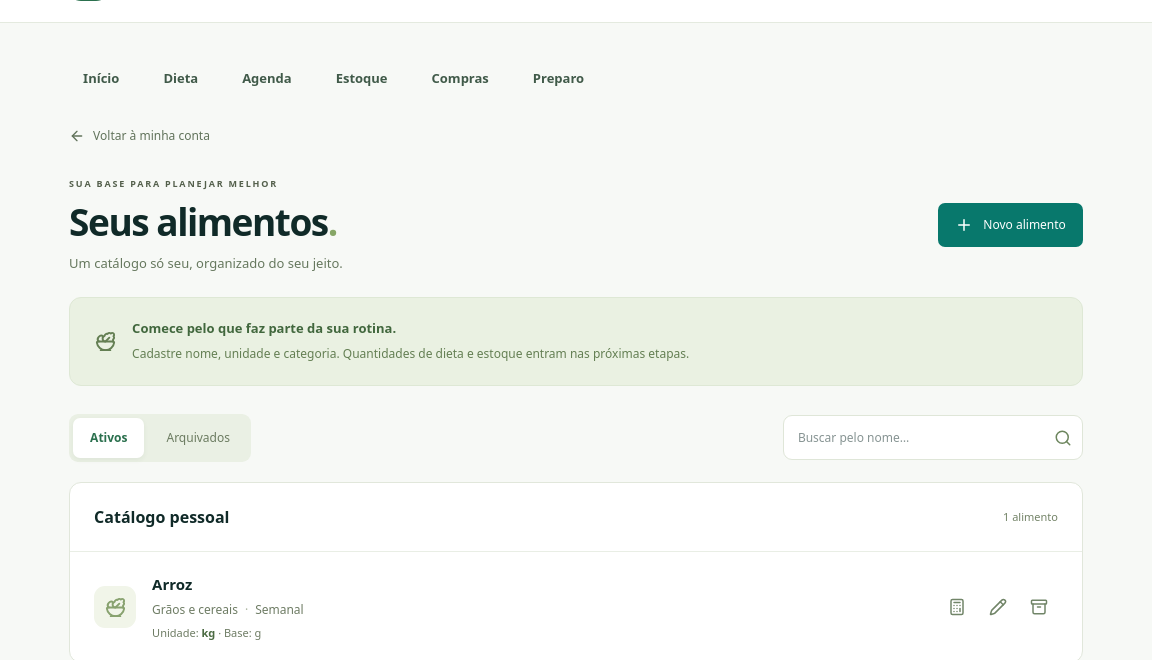
Test case: converte quantidade com vírgula, preserva referência e limpa resultado ao alterar entrada
Click the button named "Converter unidades de Arroz" at (957, 607), box [938,588,976,626]
(page scrolled)
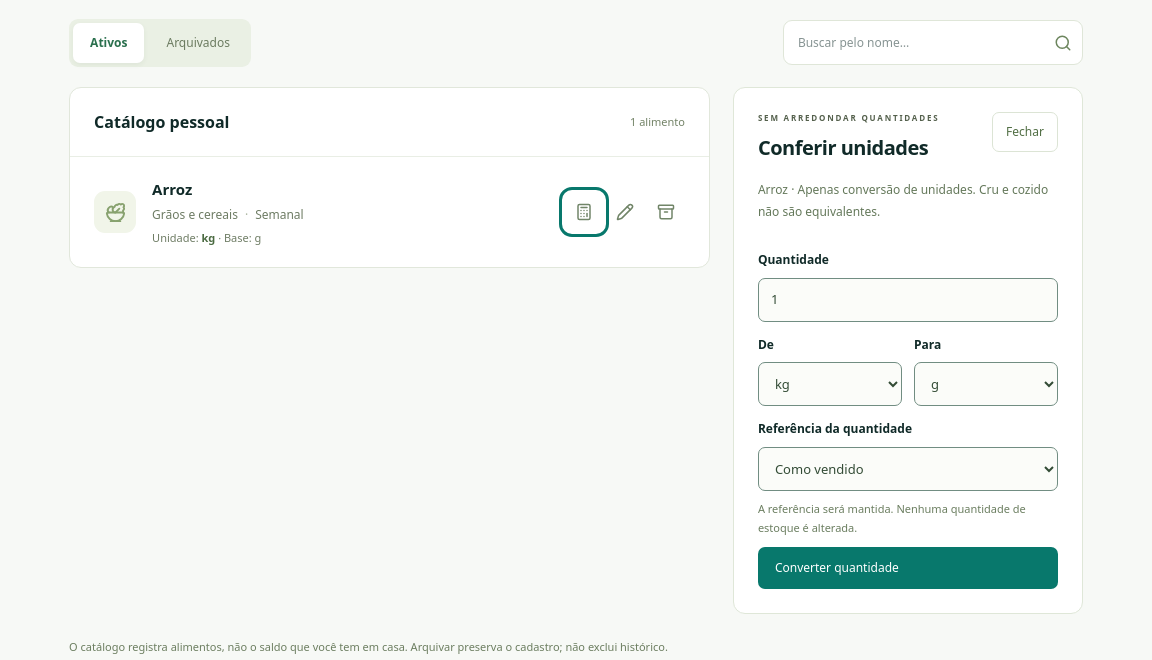
Replace the text in the field labelled "Quantidade" with "1,5" at (908, 300), box [758,278,1058,322]
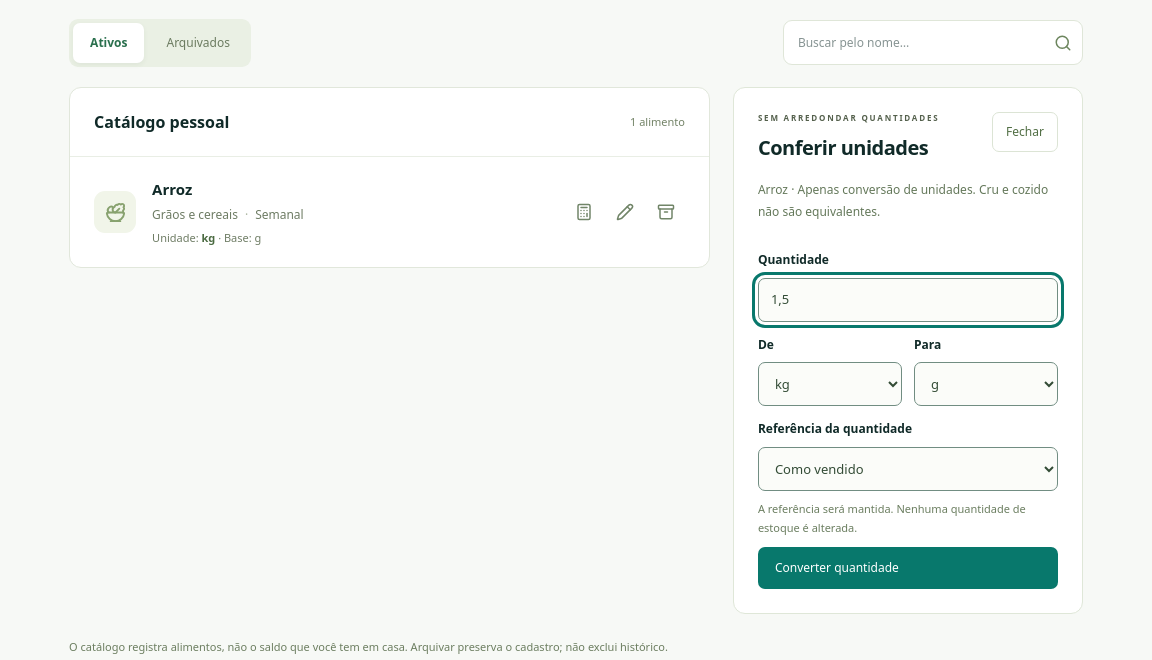
Select "Cozido / preparado" in the dropdown labelled "Referência da quantidade" at (908, 469), box [758,447,1058,491]
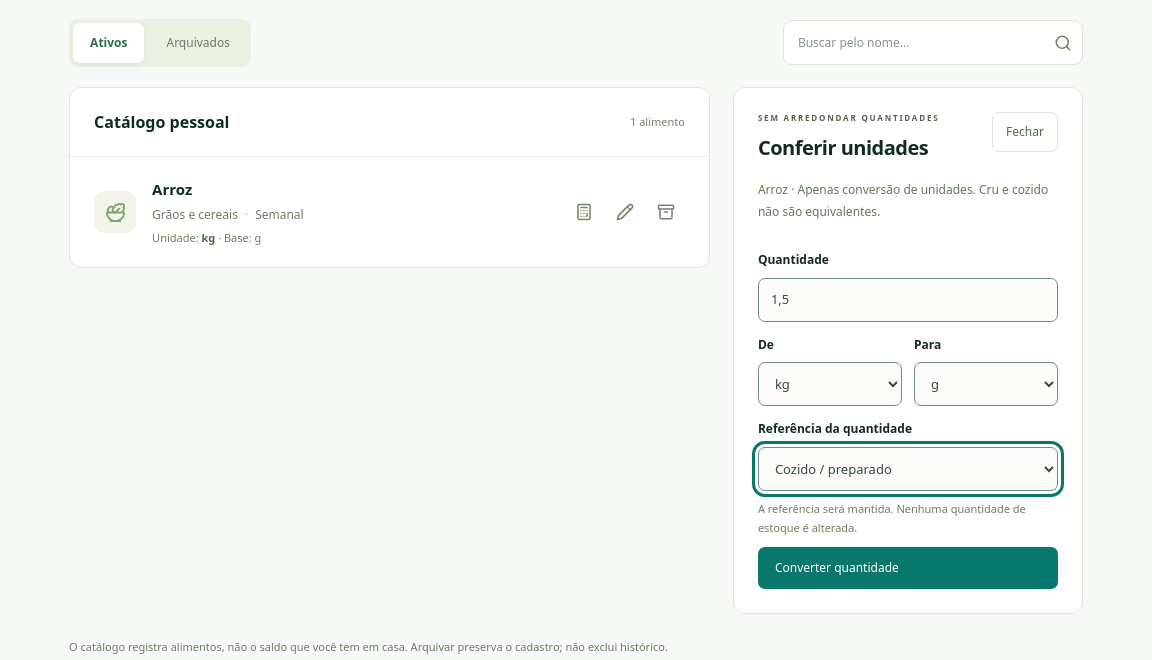
Click the button "Converter quantidade" at (837, 567), box [758,546,1058,588]
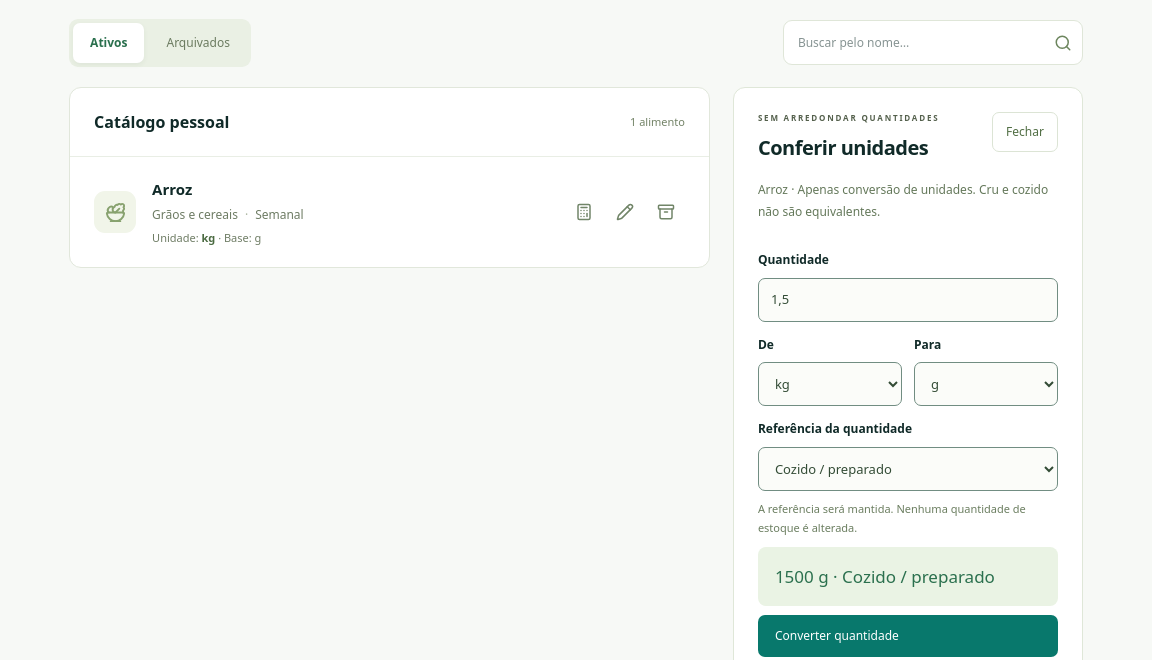
Check: the text "1500 g · Cozido / preparado" is shown, box [758,546,1058,606]
Type "1" into the field labelled "Quantidade" at (908, 300), box [758,278,1058,322]
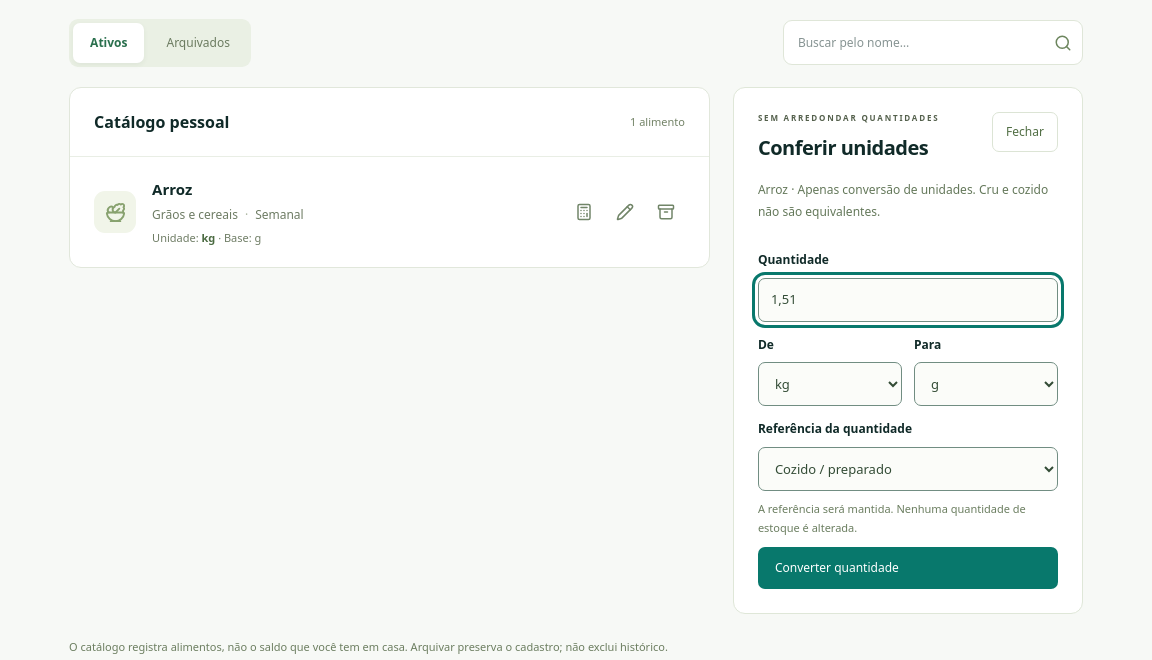
Check: the text "1500 g · Cozido / preparado" is gone
